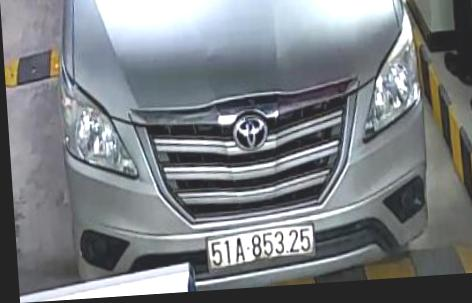License_Plate: (203, 219, 315, 268)
